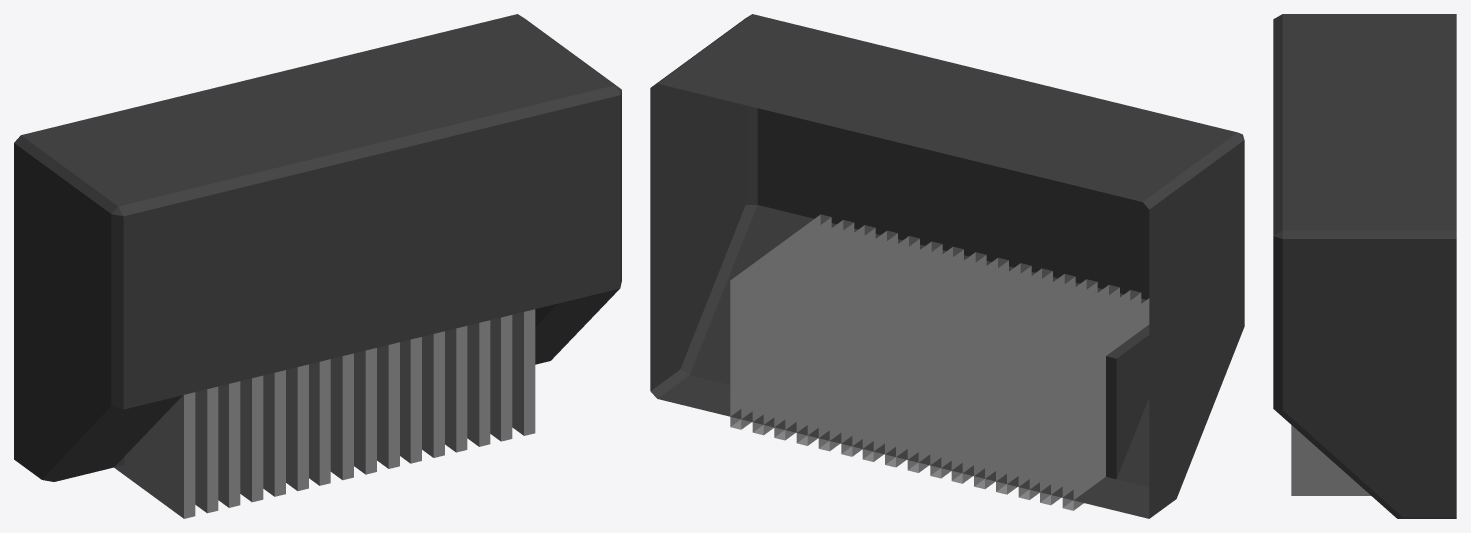
The model's file is wall_tech_E.FBX.
3 renders of one model, left to right at view 1: azimuth 30°, elevation 25°; view 2: azimuth 150°, elevation 25°; view 3: azimuth 270°, elevation 25°, orthographic. The views are drawn at different scales.
Visible parts, largest first — view 1: wall_tech_E; view 2: wall_tech_E; view 3: wall_tech_E.
Part boxes in pixels (x1,y1,x2,y2): wall_tech_E: [14, 14, 621, 518]; wall_tech_E: [650, 14, 1244, 518]; wall_tech_E: [1273, 14, 1456, 518].
Bounding box in the file's own units: 18.11 × 11.3 × 6.31.
